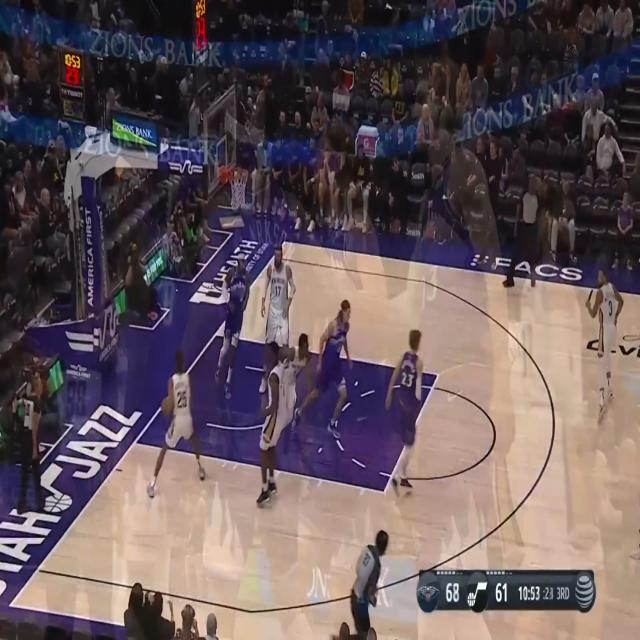Ball: (160, 398, 170, 420)
Hoop: (228, 169, 250, 211)
Period: (556, 583, 570, 604)
Player: (147, 346, 206, 498), (292, 298, 354, 440), (385, 325, 424, 501), (585, 264, 625, 425), (257, 244, 296, 394), (212, 250, 250, 403), (253, 342, 287, 502), (280, 332, 309, 433)
Ref: (502, 166, 547, 292), (17, 372, 47, 514), (350, 530, 389, 636)
Shot Clock: (543, 584, 554, 602)
Team Points: (446, 581, 460, 606), (496, 581, 508, 606)
Time Remaining: (518, 583, 541, 603)
